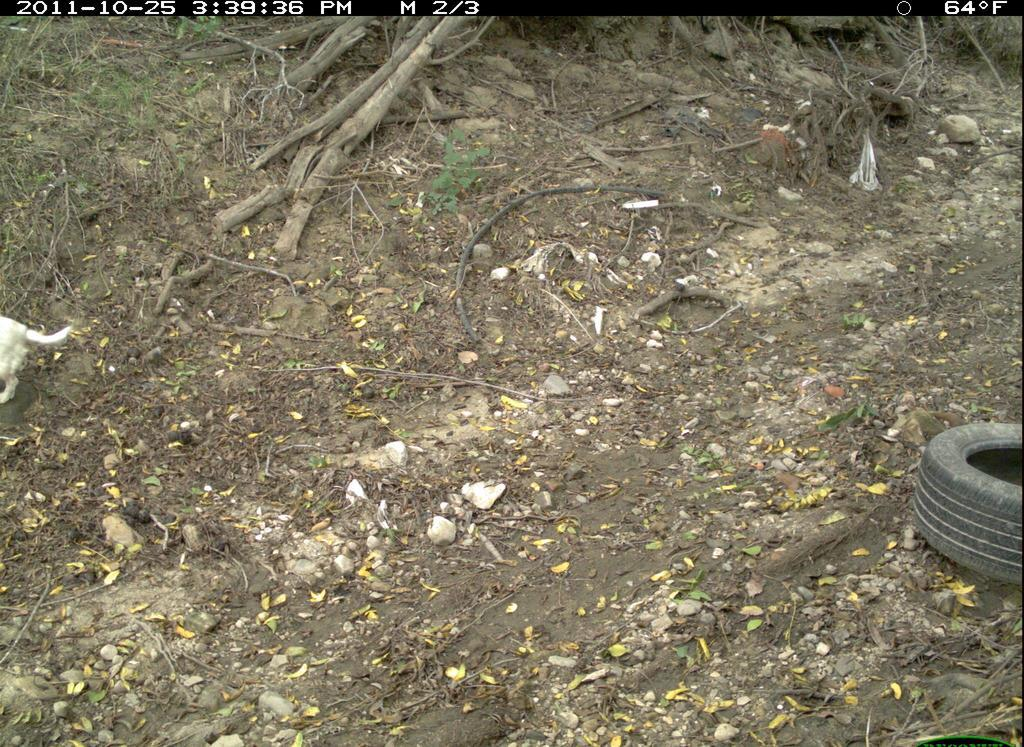dog: (1, 303, 77, 416)
